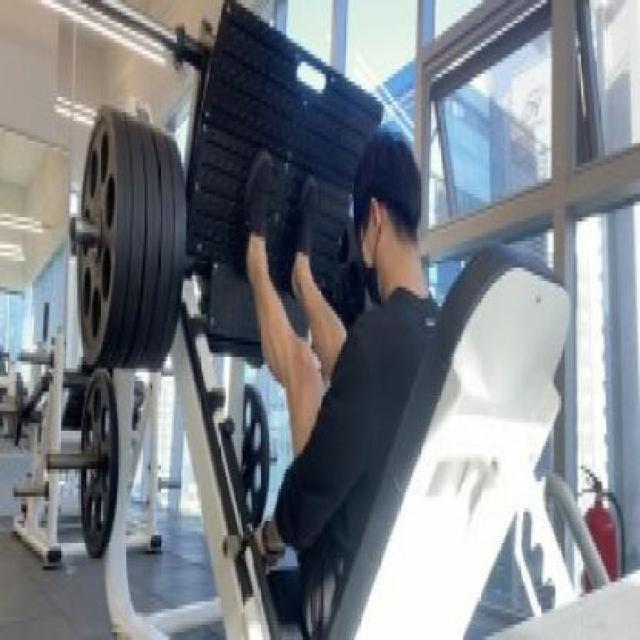leg press: (40, 9, 640, 640)
